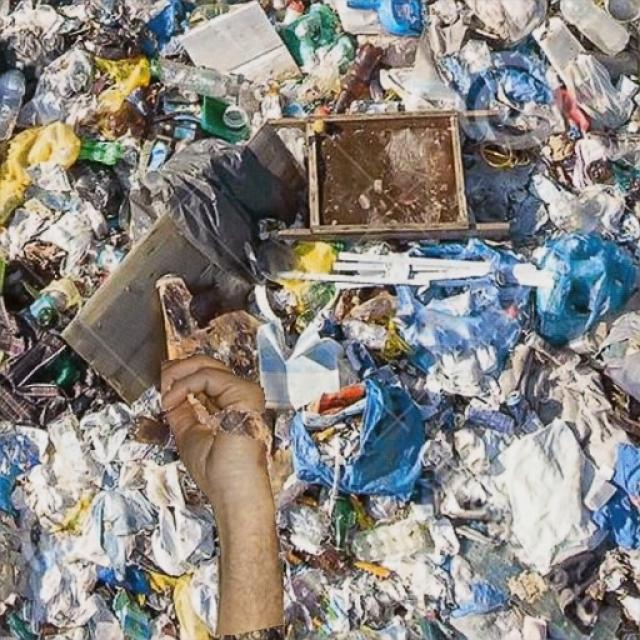Person in Rubble: (162, 352, 282, 634)
